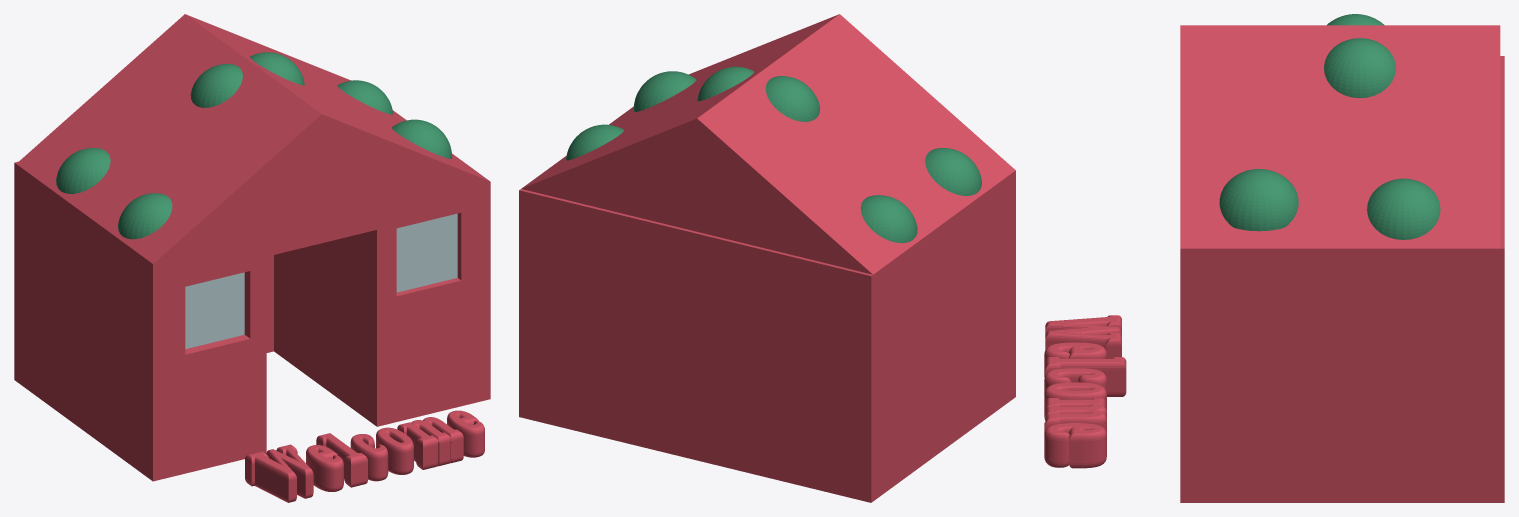
Rendered from Brilliant Trug.glb.
The picture shows the model from 3 angles, left to right: view 1: azimuth 30°, elevation 25°; view 2: azimuth 150°, elevation 25°; view 3: azimuth 270°, elevation 25°; orthographic projection. The views are drawn at different scales.
Parts seen in each view (by area): view 1: Mesh_Mesh_head_geo.001_lambert2SG.001; view 2: Mesh_Mesh_head_geo.001_lambert2SG.001; view 3: Mesh_Mesh_head_geo.001_lambert2SG.001.
Boxes of the visible parts, bbox=[...] form: Mesh_Mesh_head_geo.001_lambert2SG.001: bbox=[14, 14, 490, 502]; Mesh_Mesh_head_geo.001_lambert2SG.001: bbox=[519, 14, 1015, 502]; Mesh_Mesh_head_geo.001_lambert2SG.001: bbox=[1044, 14, 1504, 502].
Bounding box in the file's own units: 104 × 96 × 105.
